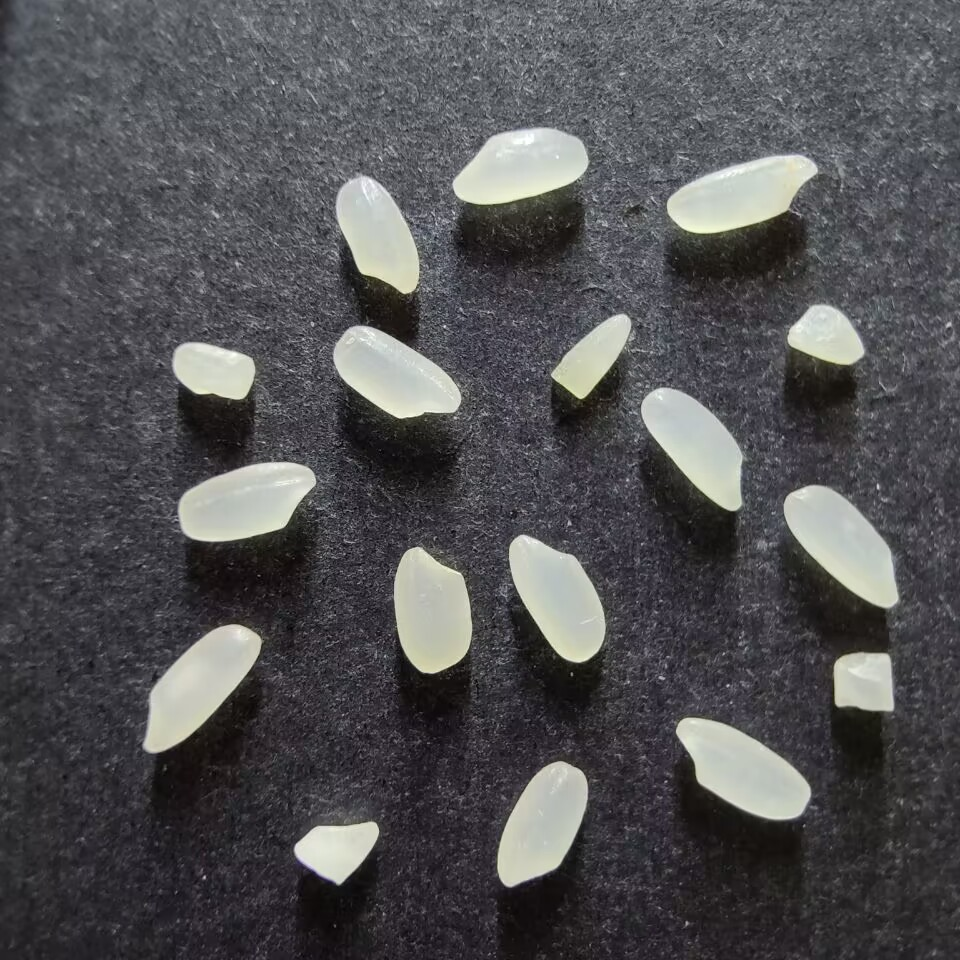broken: (550, 312, 631, 399), (293, 820, 380, 885), (786, 303, 865, 365), (172, 342, 255, 400), (832, 651, 894, 716)
rice: (142, 623, 261, 754), (674, 716, 812, 821), (783, 484, 898, 609), (640, 386, 742, 512), (507, 534, 606, 662), (332, 325, 462, 419), (667, 154, 817, 234), (495, 761, 588, 887), (177, 461, 316, 541), (451, 127, 588, 205), (392, 546, 472, 674), (335, 177, 419, 294)
